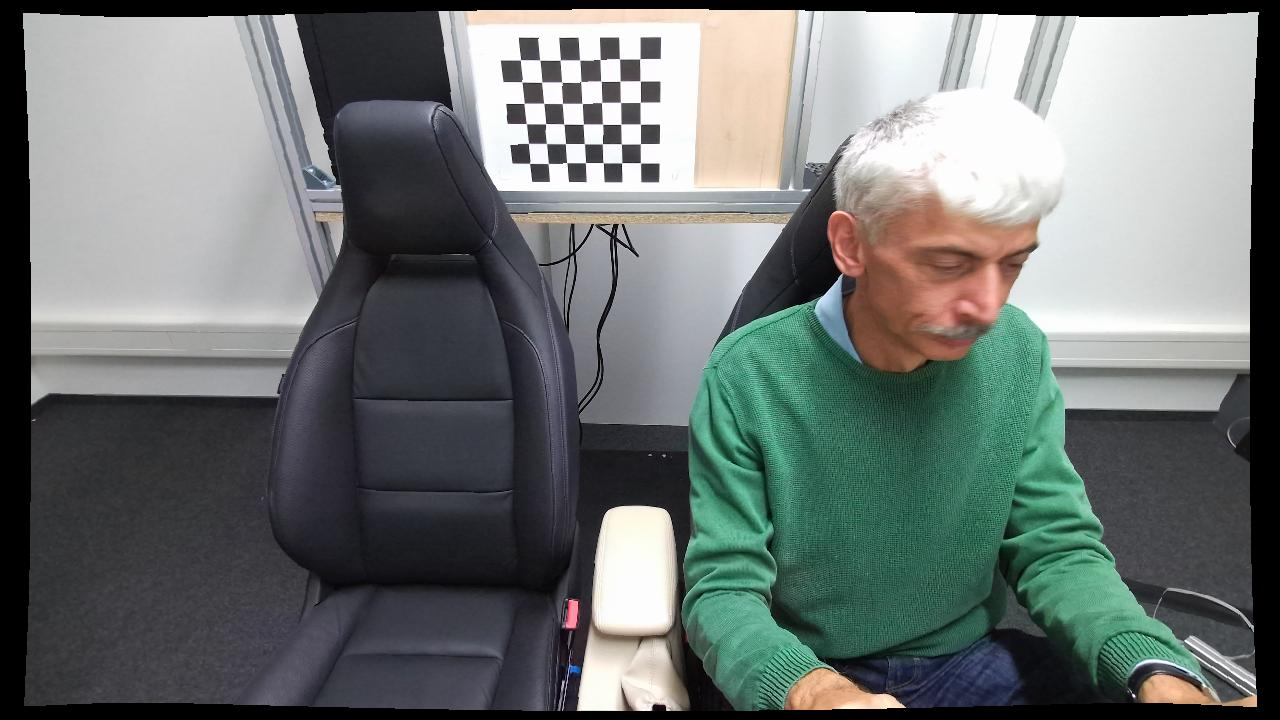SafeDriving: (672, 82, 1132, 713)
